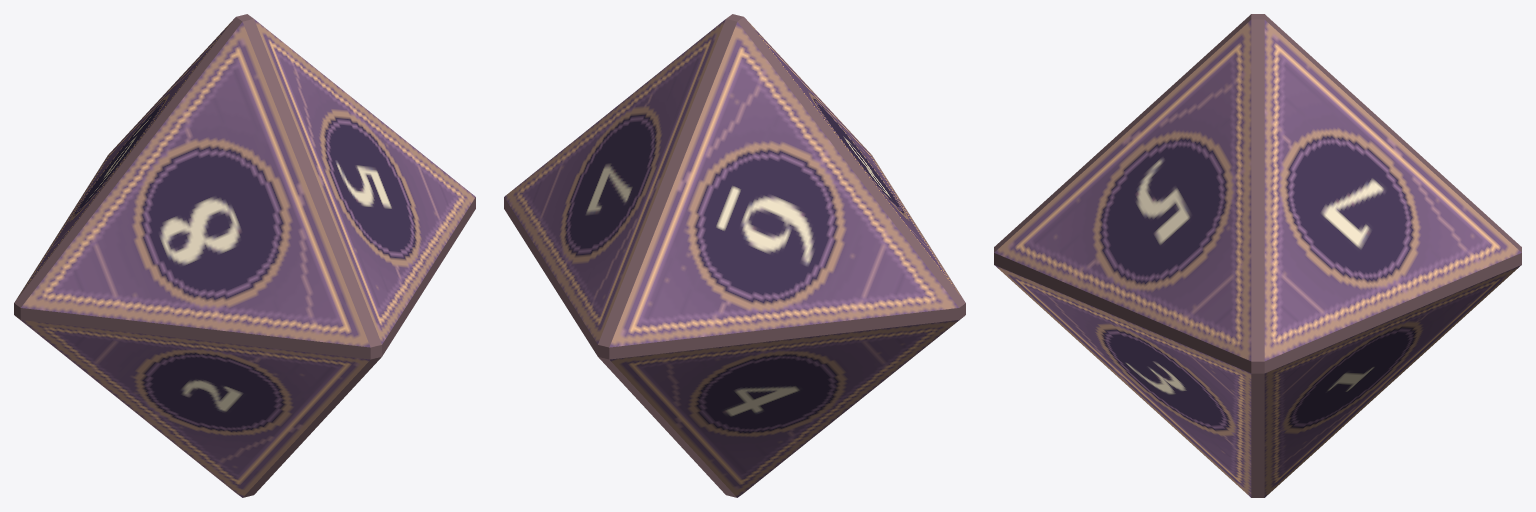
3 renders of one model, left to right at view 1: azimuth 30°, elevation 25°; view 2: azimuth 150°, elevation 25°; view 3: azimuth 270°, elevation 25°, orthographic.
Size of the model in its own units: 198 by 198 by 198.
Materials: 1 (1 with a texture image).
